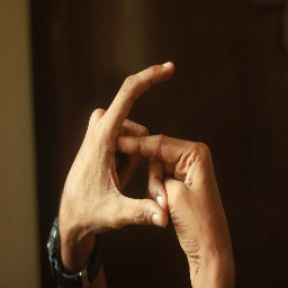E: (93, 48, 189, 236)
